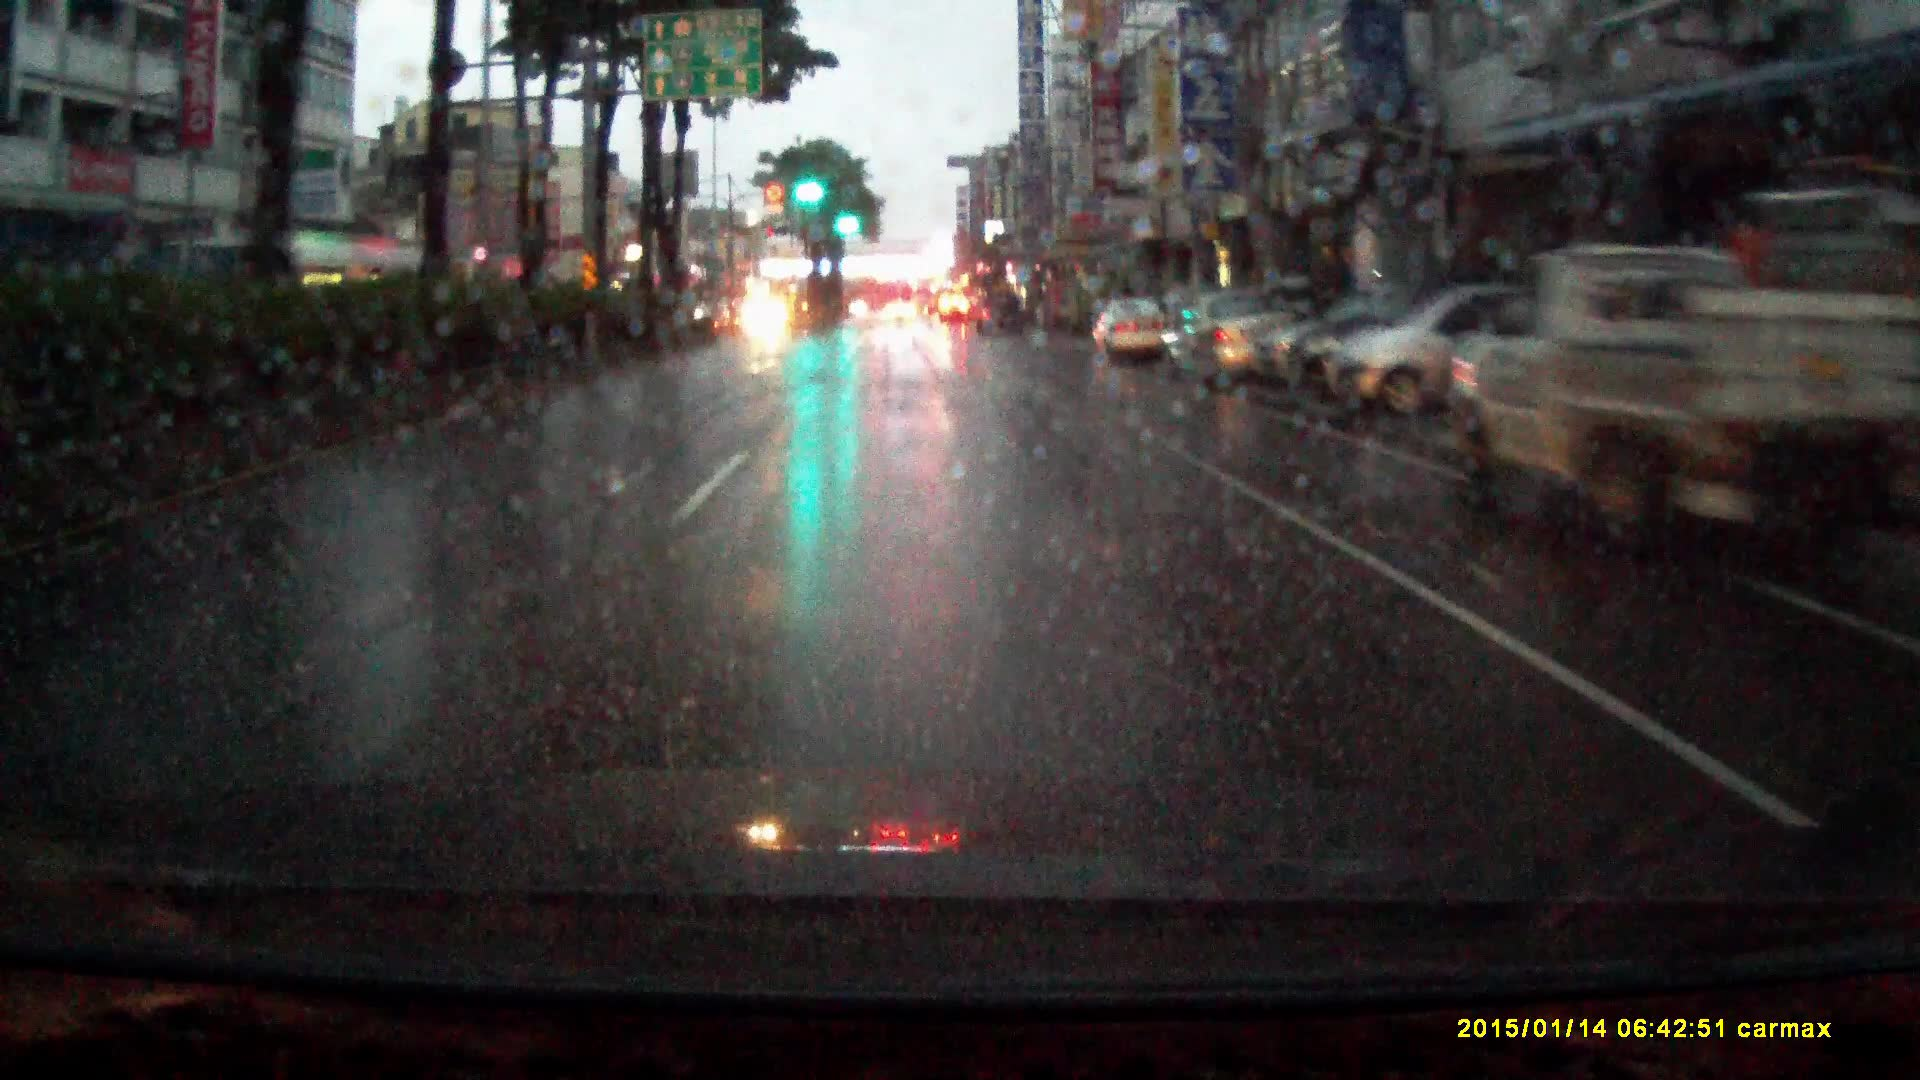vehicle: (1437, 248, 1920, 597), (1327, 287, 1553, 423), (1156, 295, 1313, 406), (1095, 305, 1168, 373), (975, 297, 1029, 342), (741, 301, 794, 344), (939, 301, 972, 331), (914, 284, 940, 319), (886, 305, 916, 324)
